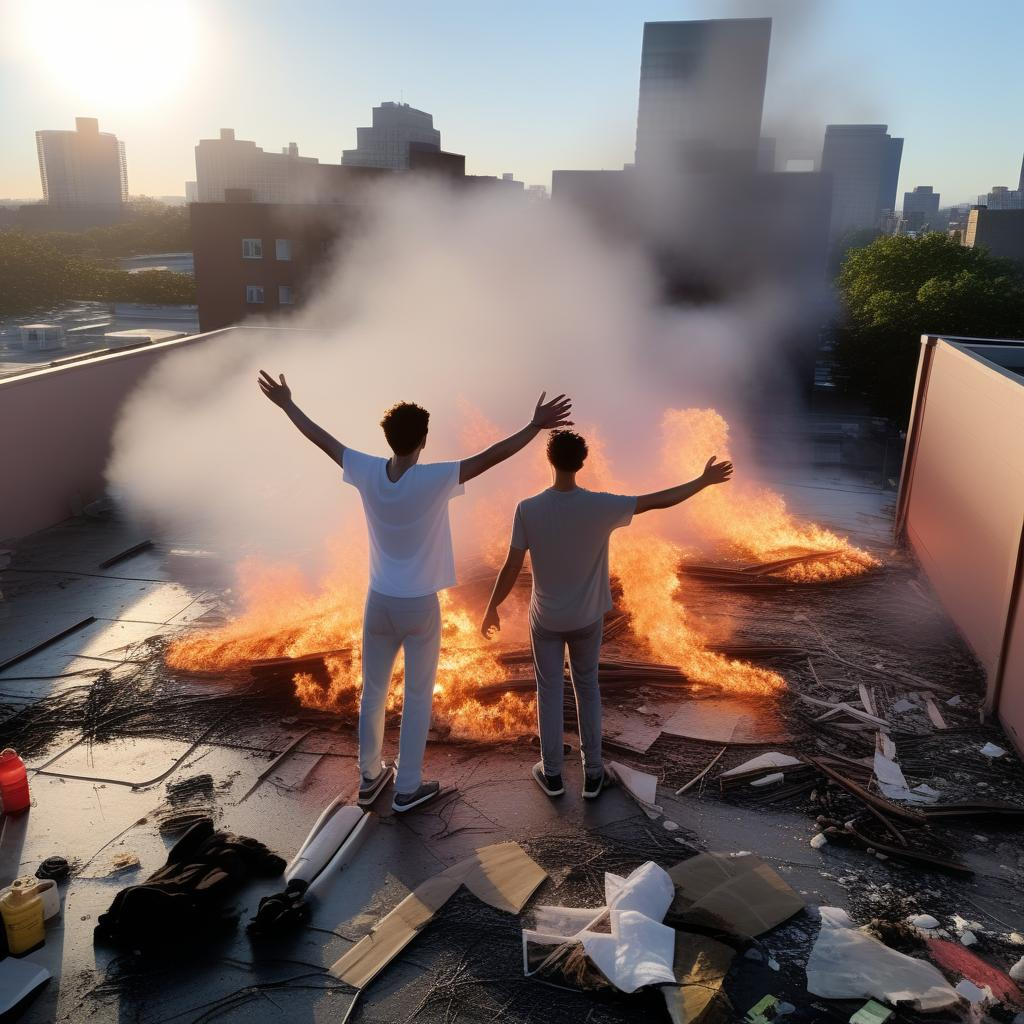victim: (236, 362, 572, 828), (476, 423, 738, 805)
